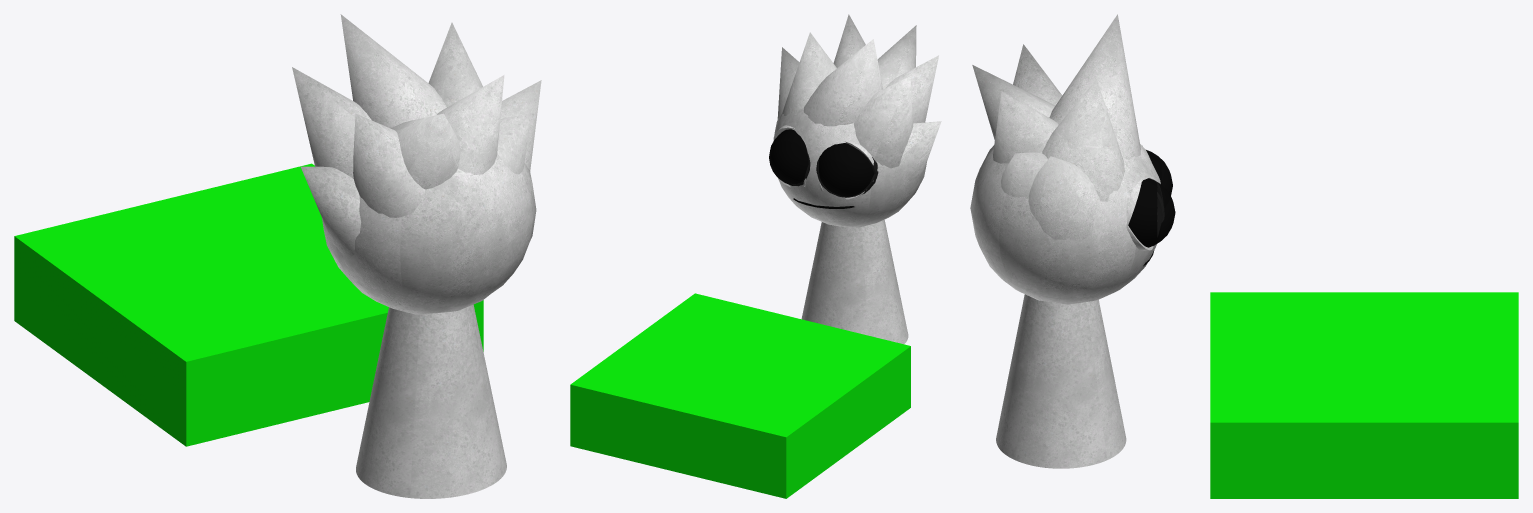
The picture shows the model from 3 angles, left to right: view 1: azimuth 30°, elevation 25°; view 2: azimuth 150°, elevation 25°; view 3: azimuth 270°, elevation 25°; orthographic projection. The views are drawn at different scales.
Visible parts, largest first — view 1: Pad1, Owakcx1, Mainheadneutral1, Hairpart3, Hairpart8, Hairpart6, Hairpart7, Hairpart2, Spikehair1, Hairpart4, Hairpart1, Hairpart5; view 2: Pad1, Owakcx1, Mainheadneutral1, Hairpart3, Hairpart6, Lense1, Hairpart4, Lense2, Spikehair1, Hairpart2, Hairpart8, Hairpart7 (+1 smaller); view 3: Pad1, Owakcx1, Mainheadneutral1, Hairpart4, Hairpart3, Hairpart5, Hairpart7, Lense2, Hairpart2, Hairpart1, Hairpart8.
Part boxes in pixels (x1,y1,x2,y2): Pad1: (14,163,483,446); Owakcx1: (356,304,506,498); Mainheadneutral1: (322,154,536,314); Hairpart3: (340,14,446,128); Hairpart8: (353,113,424,217); Hairpart6: (292,67,371,178); Hairpart7: (437,75,504,174); Hairpart2: (390,113,460,189); Spikehair1: (301,166,361,258); Hairpart4: (428,22,482,107); Hairpart1: (497,113,531,174); Hairpart5: (500,80,541,171); Pad1: (570,293,910,498); Owakcx1: (801,219,908,344); Mainheadneutral1: (773,108,926,227); Hairpart3: (803,39,882,126); Hairpart6: (854,76,913,168); Lense1: (816,143,878,197); Hairpart4: (781,32,836,115); Lense2: (769,132,810,186); Spikehair1: (899,121,941,181); Hairpart2: (877,25,916,89); Hairpart8: (886,55,938,123); Hairpart7: (833,14,865,67); Pad1: (1210,292,1518,498); Owakcx1: (996,294,1126,468); Mainheadneutral1: (970,144,1160,304); Hairpart4: (1042,79,1124,201); Hairpart3: (1049,14,1140,159); Hairpart5: (1028,156,1099,241); Hairpart7: (993,91,1058,163); Lense2: (1128,178,1175,247); Hairpart2: (972,65,1055,140); Hairpart1: (1001,152,1047,197); Hairpart8: (1013,44,1062,105).
Size of the model in its own units: 4 by 5.72 by 7.11.
6 materials, 2 textured.
